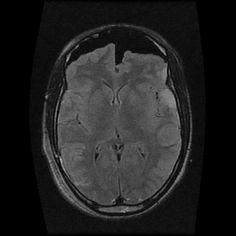Normal_Brain: (2, 2, 236, 236)
